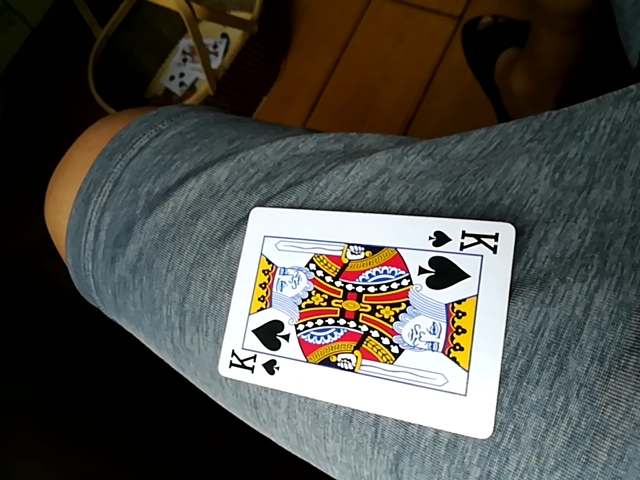ht k: (216, 208, 521, 439)
